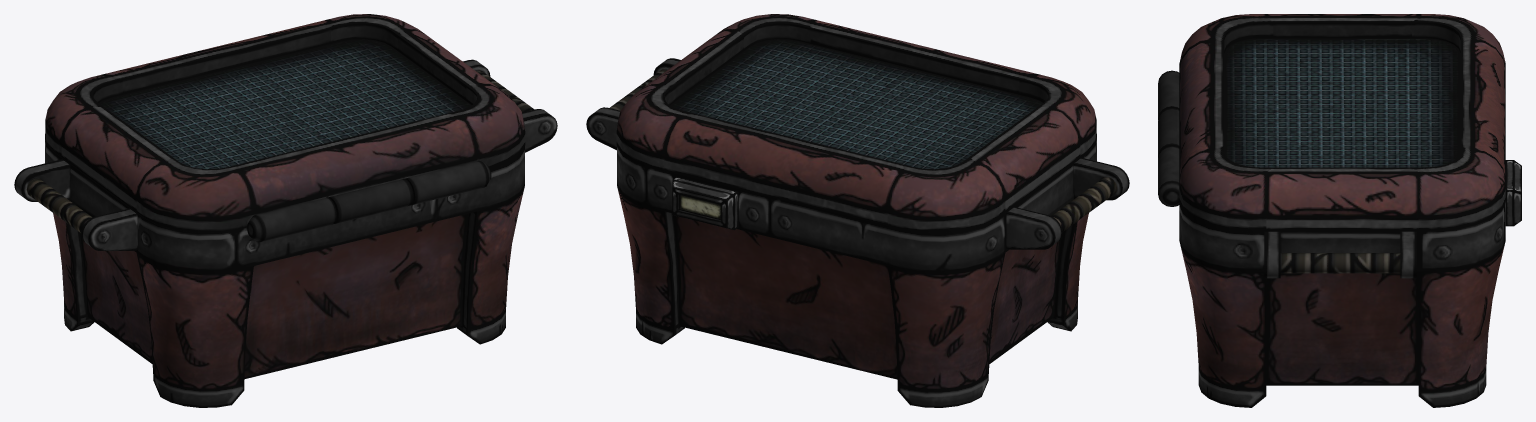
Rendered from chest.glb.
3 views of the same model, side by side, from view 1: azimuth 30°, elevation 25°; view 2: azimuth 150°, elevation 25°; view 3: azimuth 270°, elevation 25° (orthographic).
Parts seen in each view (by area): view 1: Lid, Base, Handles; view 2: Lid, Base, Handles, Button, Light.001; view 3: Lid, Base, Handles, Button.
Part boxes in pixels (x1,y1,x2,y2): Lid: [45, 14, 525, 232]; Base: [45, 134, 524, 407]; Handles: [14, 59, 557, 250]; Lid: [616, 14, 1096, 232]; Base: [617, 134, 1096, 407]; Handles: [586, 58, 1129, 249]; Button: [672, 176, 738, 230]; Light.001: [679, 194, 721, 219]; Lid: [1158, 14, 1505, 230]; Base: [1158, 70, 1505, 407]; Handles: [1264, 231, 1416, 278]; Button: [1505, 160, 1521, 226].
Size of the model in its own units: 0.0754 by 0.0349 by 0.0502.
Materials: 1 (1 with a texture image).
